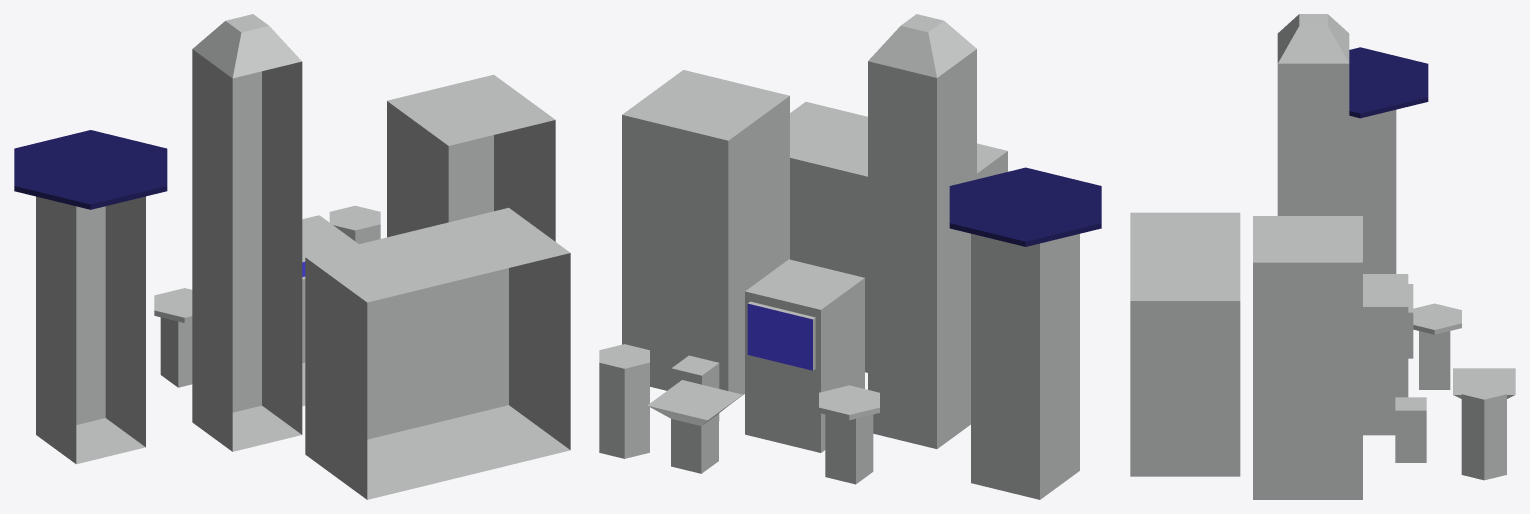
File: BackGround.gltf
The picture shows the model from 3 angles, left to right: view 1: azimuth 30°, elevation 25°; view 2: azimuth 150°, elevation 25°; view 3: azimuth 270°, elevation 25°; orthographic projection. The views are drawn at different scales.
Parts seen in each view (by area): view 1: 立方体; view 2: 立方体; view 3: 立方体.
Part boxes in pixels (bbox=[...]): 立方体: bbox=[14, 14, 570, 499]; 立方体: bbox=[599, 14, 1101, 499]; 立方体: bbox=[1130, 14, 1515, 499].
Size of the model in its own units: 94.37 by 76 by 73.58.
1 material, 1 textured.
